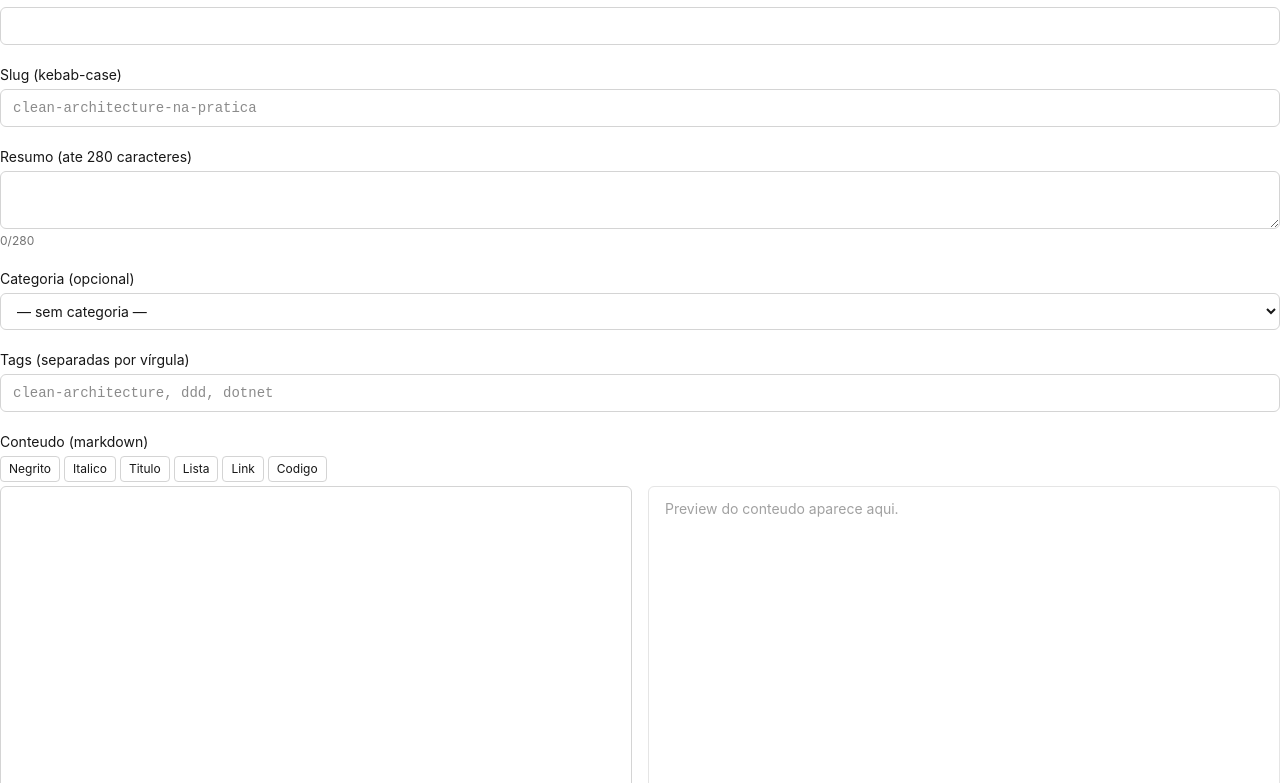
Test: ArtigoEditor › a toolbar 'Negrito' envolve a selecao (ou o exemplo) com **
Click the button "Negrito". click: [30, 469]
box: [0,456,60,482]
(page scrolled)
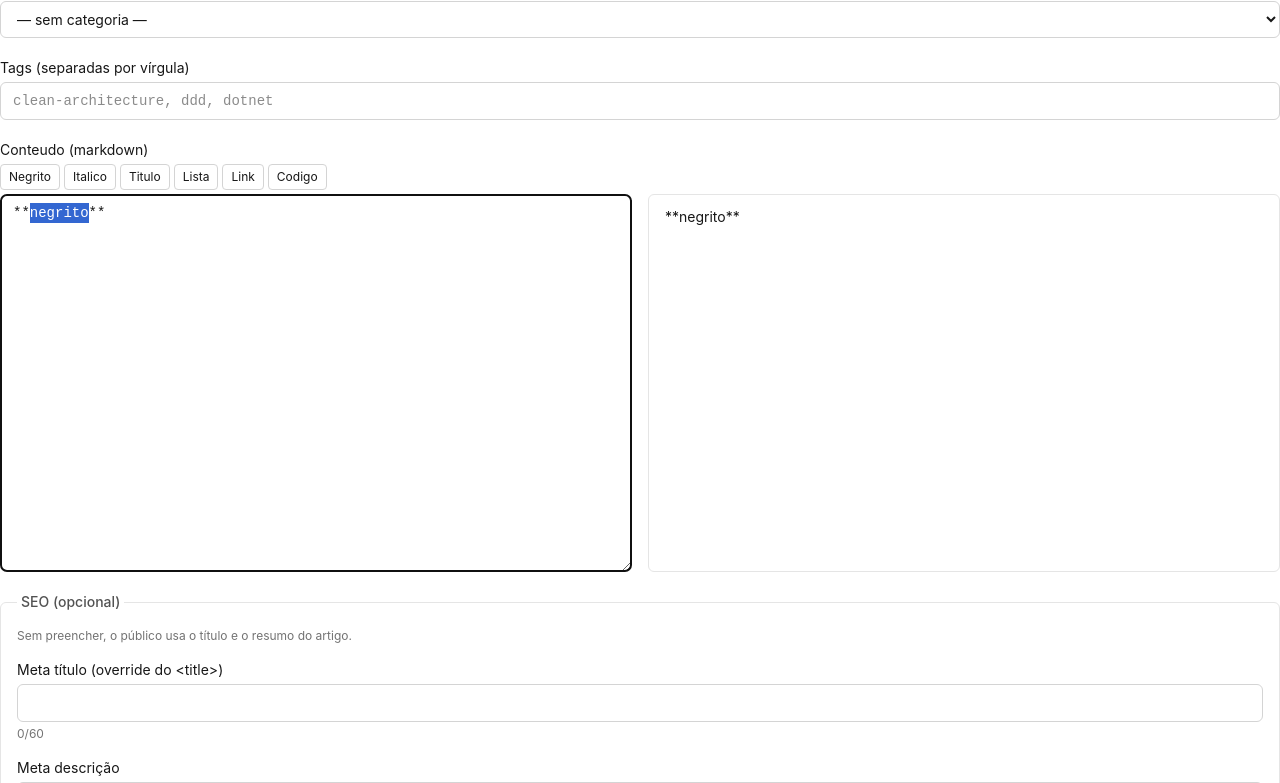
Expected: the text box showing "**negrito**" is shown, [0,194,632,572]
